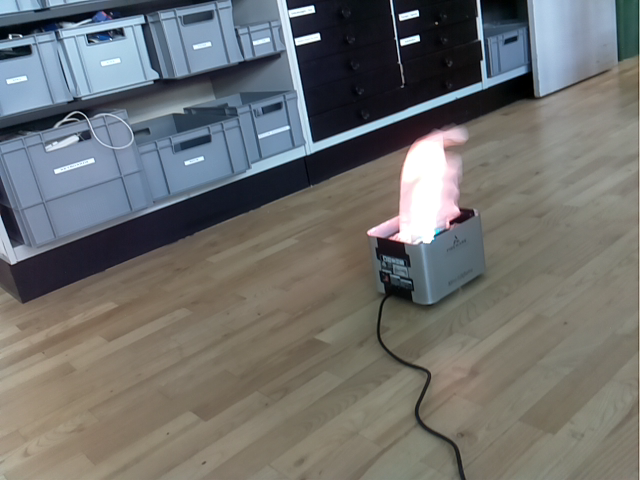fire: (399, 125, 468, 244)
